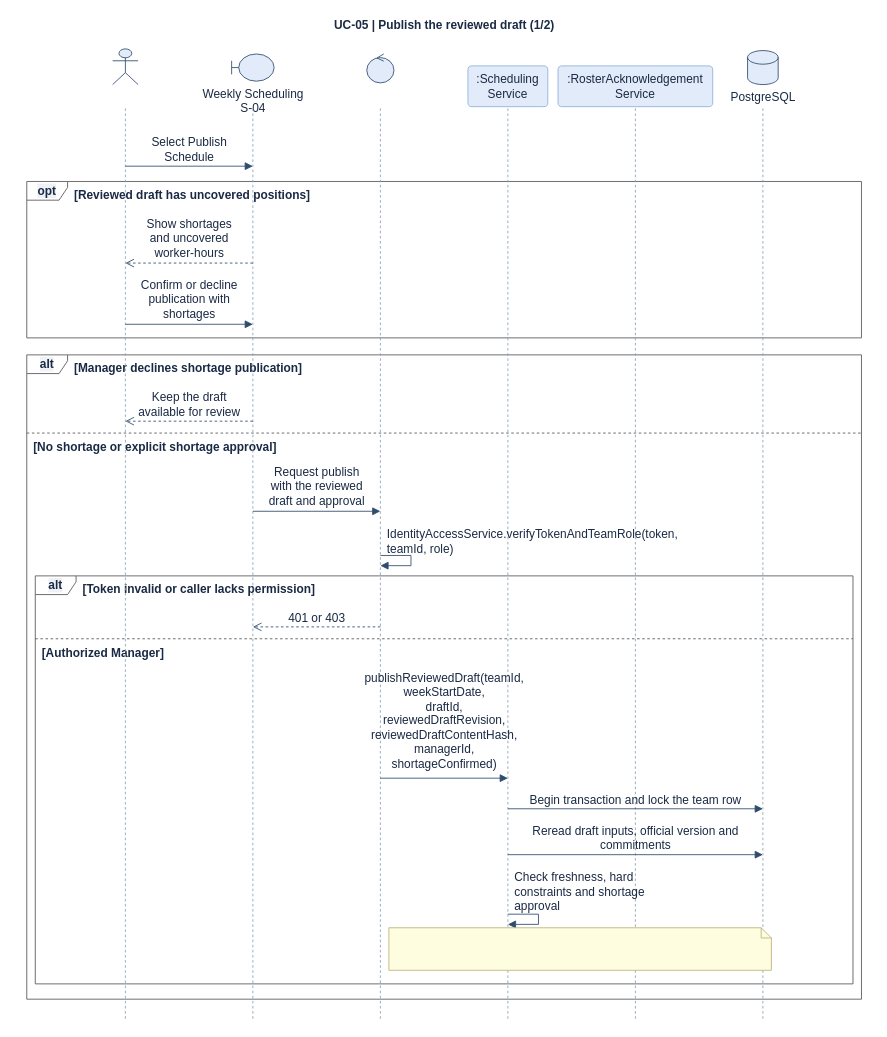
Some shapes in this 887 by 1037 pixel diagram are drawn without their labels. The shapes that lost their labels are listed below. From the top down, each one's centre as x and y in pixels, then its label:
At pixel 125 66: "Manager".
At pixel 380 68: "Express API".
At pixel 579 948: "The checks continue in part 2/2. The API returns the publication result to S-04.".
